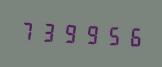five: (102, 21, 122, 49)
nine: (60, 18, 80, 46), (81, 20, 101, 48)
seven: (17, 16, 37, 44)
six: (123, 22, 143, 50)
three: (38, 17, 58, 45)
